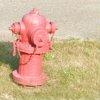a fire hydrant: (8, 12, 52, 88)
